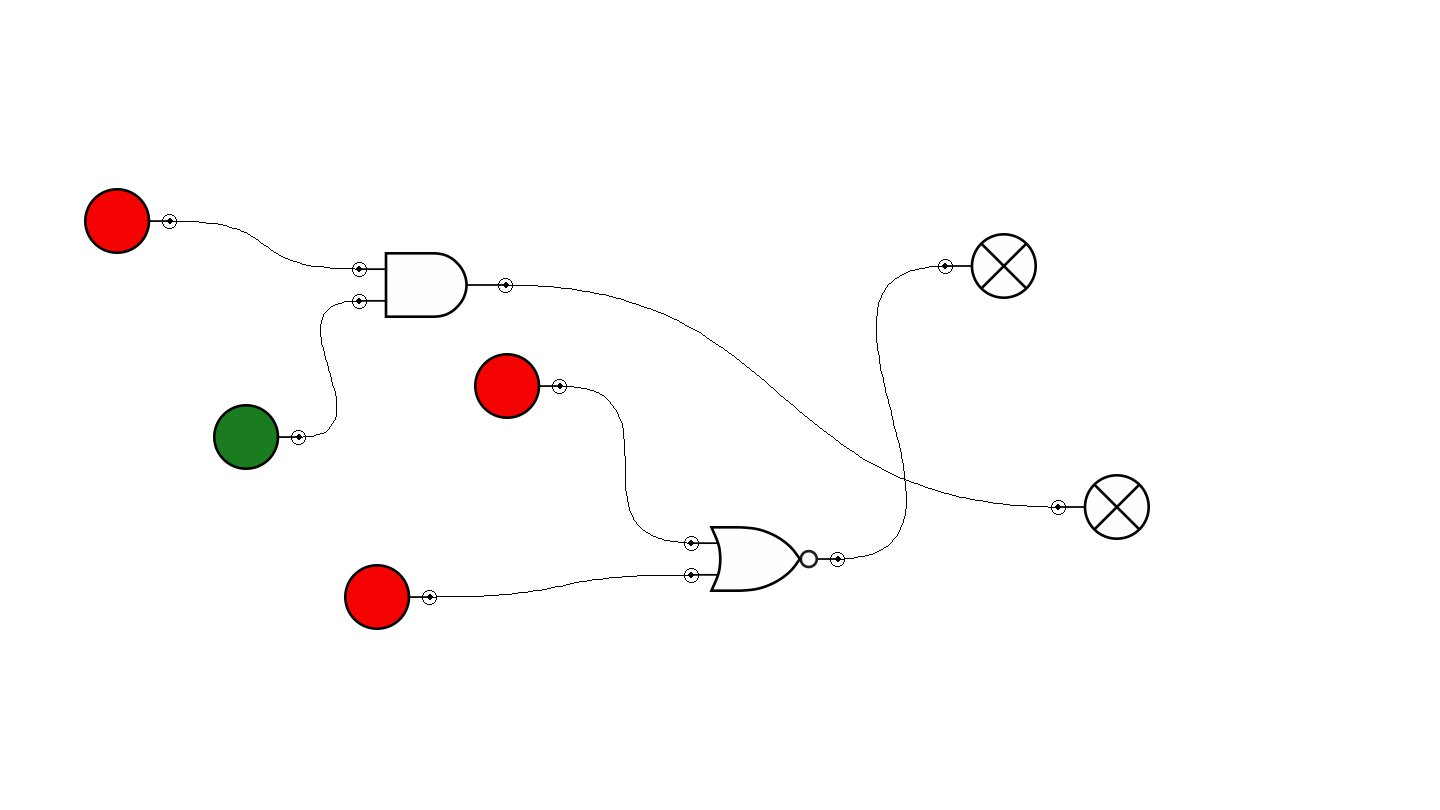and: (352, 252, 513, 318)
bulb: (1051, 474, 1150, 540), (938, 233, 1037, 299)
nor: (684, 526, 845, 592)
switch_False: (474, 353, 567, 419), (344, 564, 437, 630), (84, 188, 177, 254)
switch_True: (213, 404, 306, 470)
